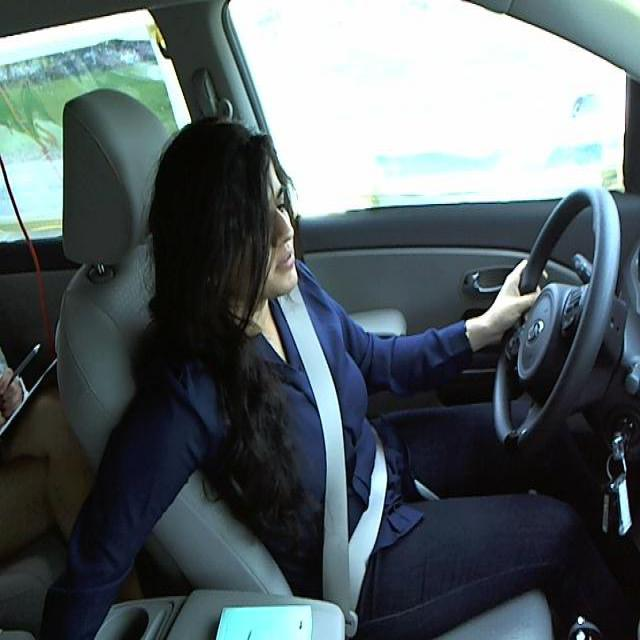seatbelt: (269, 292, 401, 585)
